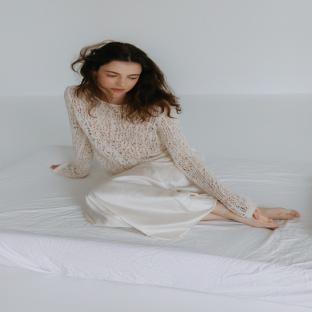Human: (52, 41, 300, 239)
